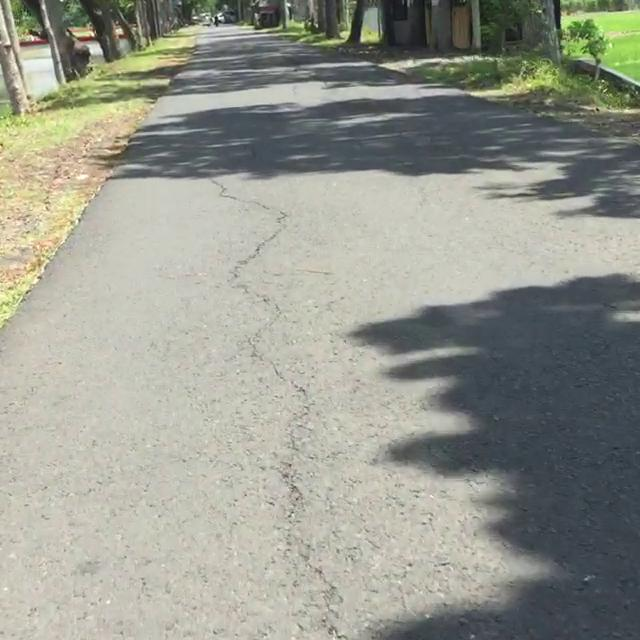retak_memanjang: (187, 174, 371, 640)
